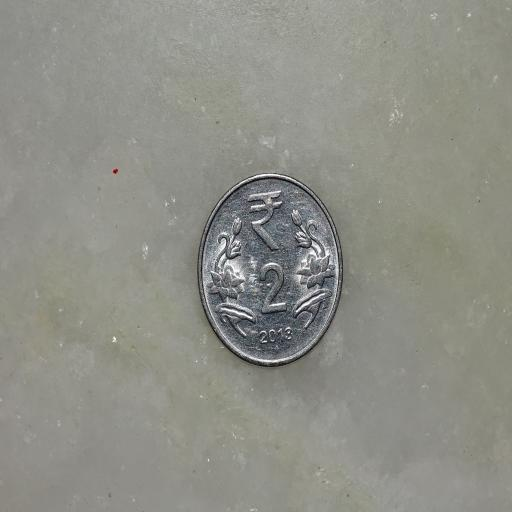rupee2: (191, 171, 343, 368)
